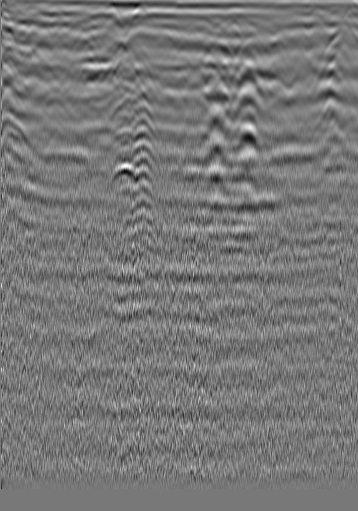가스: (103, 156, 146, 188)
상수: (23, 27, 43, 47)
오수: (287, 21, 307, 41)
우수: (161, 27, 181, 47)
